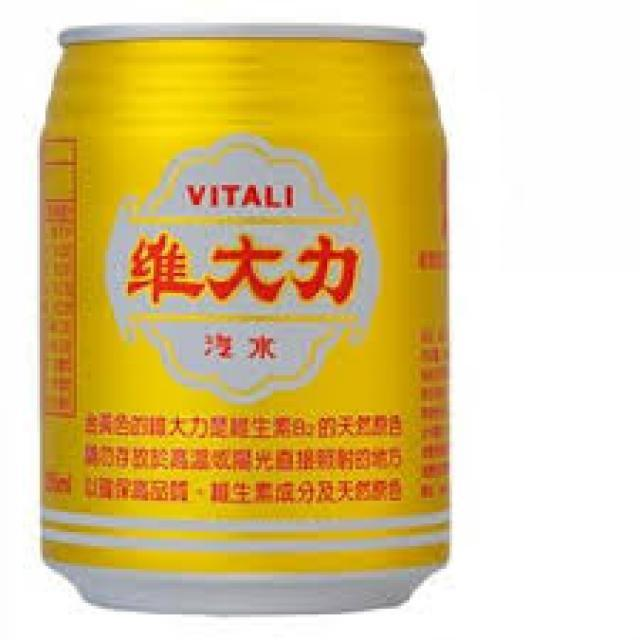recyclable: (36, 23, 451, 614)
